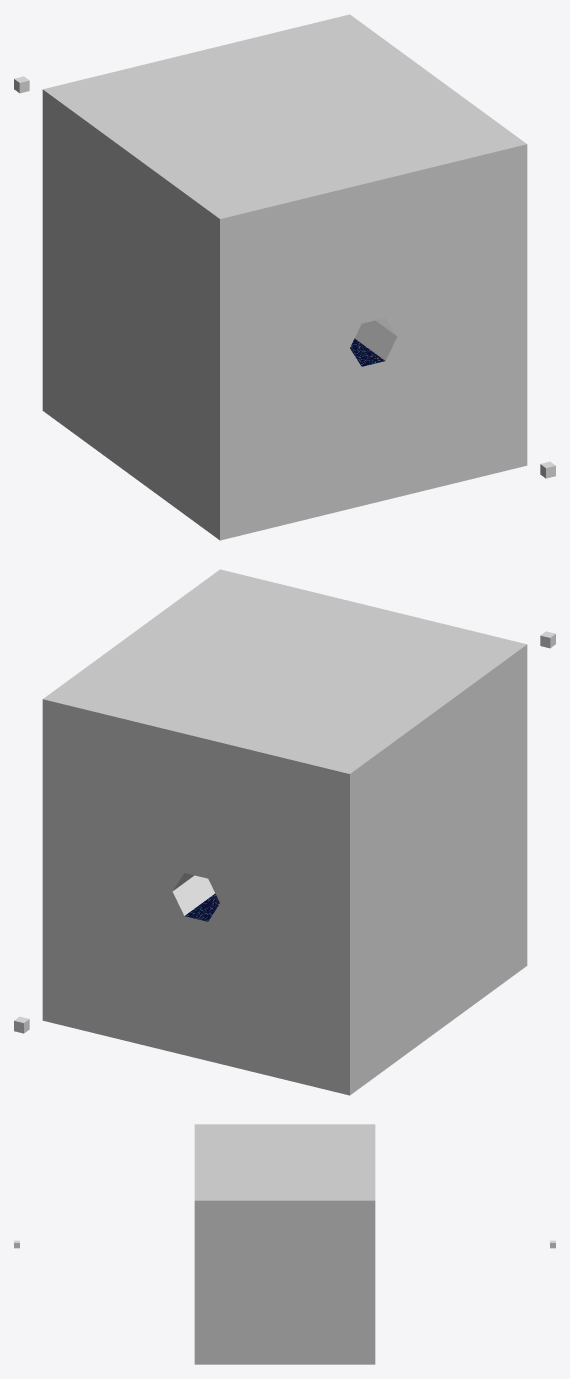
Rendered from Corridor_v0.6.fbx.
3 views of the same model, one above another, from view 1: azimuth 30°, elevation 25°; view 2: azimuth 150°, elevation 25°; view 3: azimuth 270°, elevation 25° (orthographic). The views are drawn at different scales.
Parts seen in each view (by area): view 1: Corridor.003; view 2: Corridor.003; view 3: Corridor.003.
Part boxes in pixels (x1=…): Corridor.003: x1=42, y1=14, x2=527, y2=540; Corridor.003: x1=42, y1=569, x2=527, y2=1095; Corridor.003: x1=194, y1=1124, x2=375, y2=1364.
Bounding box in the file's own units: 4 × 4 × 12.
Materials: 3 (1 with a texture image).
